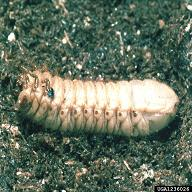grub: (14, 65, 181, 137)
